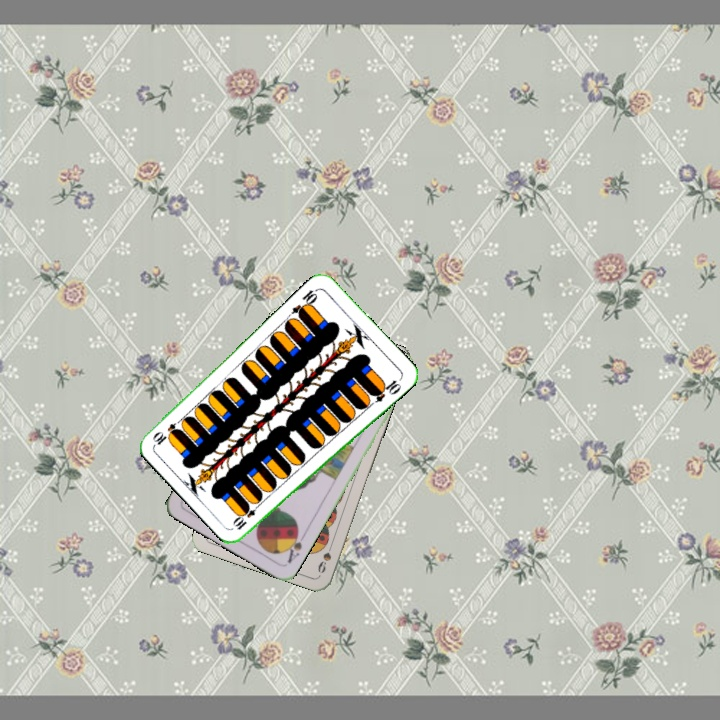E10: (230, 498, 263, 533), (288, 285, 321, 320)
S9: (314, 537, 336, 576)
SA: (281, 526, 308, 566)
